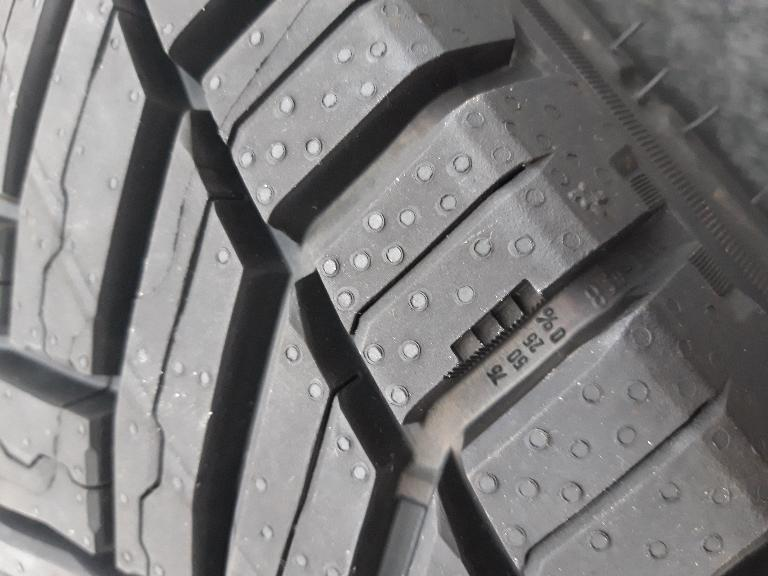temoin:100: (436, 274, 552, 390)
